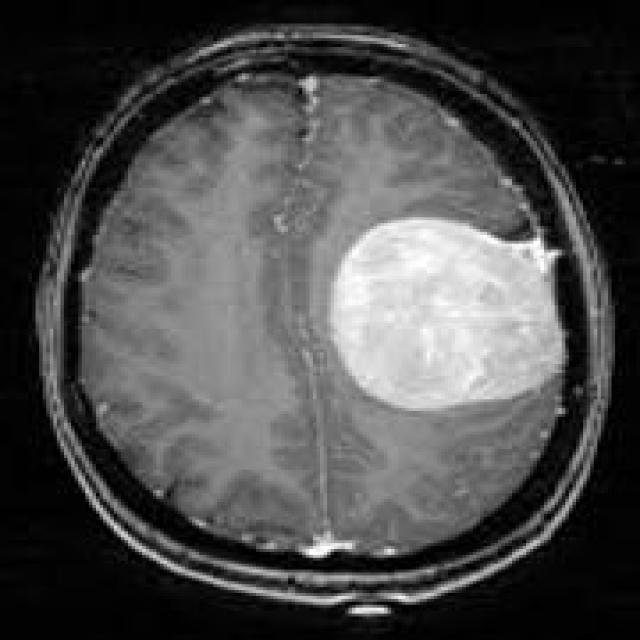Tumor-Cell: (330, 186, 562, 408)
